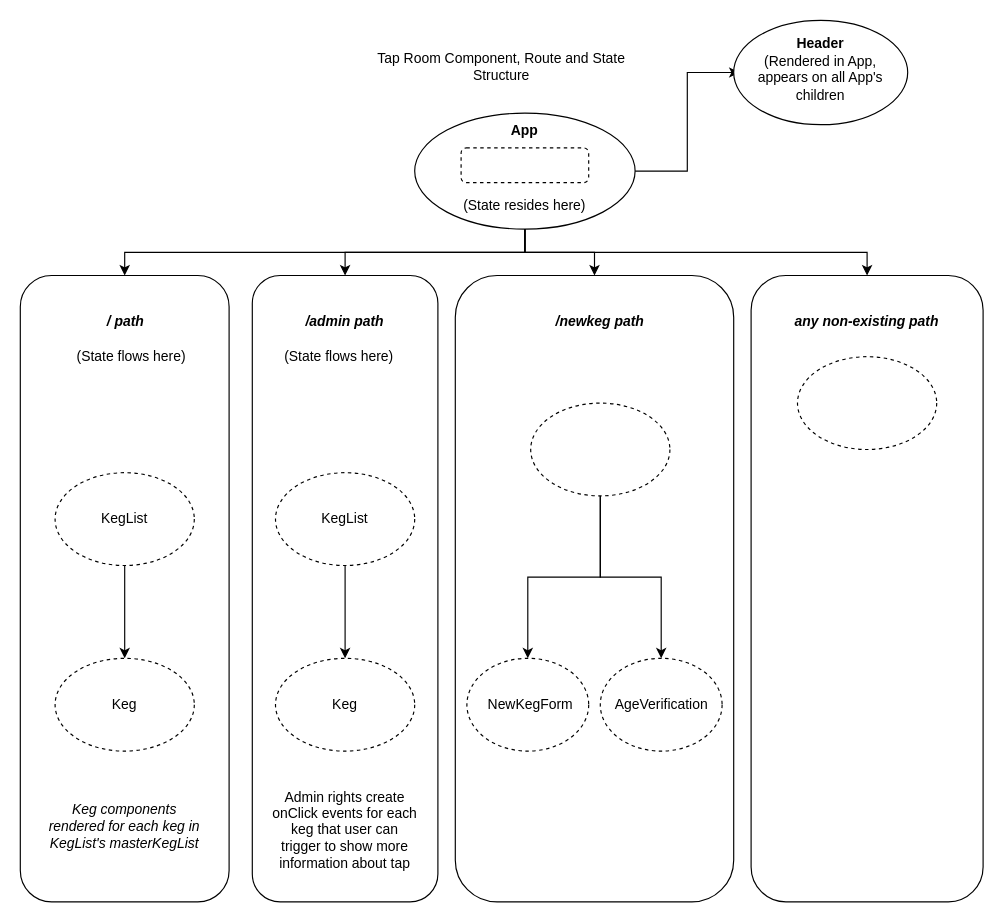
Some shapes in this 1003 by 922 pixel diagram are drawn without their labels. Each missing label, with the centre of its shape:
Error404: point (866, 402)
NewKegControl: point (600, 449)
Routes: point (524, 165)
